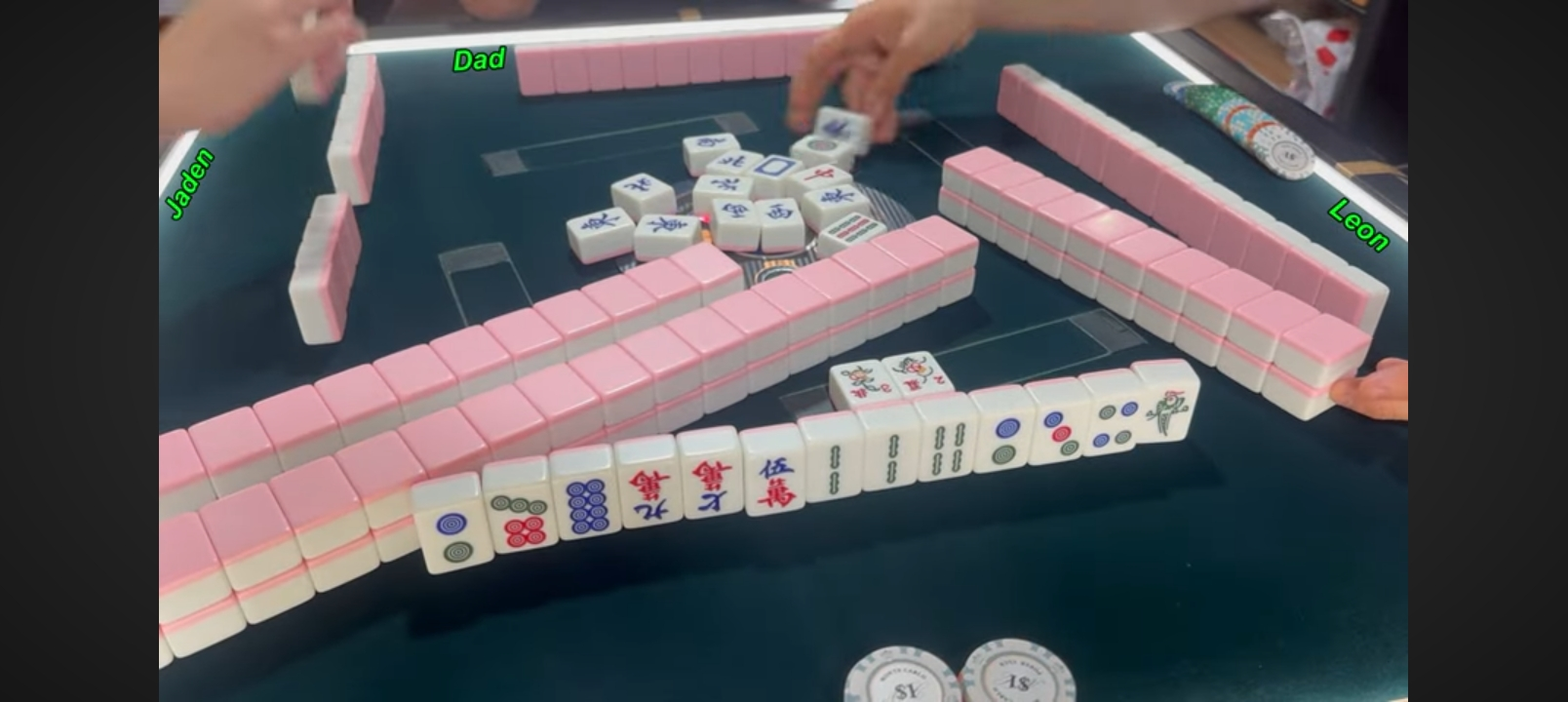TILE: (420, 498, 489, 574), (487, 487, 556, 554), (619, 462, 686, 529), (743, 448, 809, 515), (557, 472, 620, 539), (686, 453, 744, 518), (863, 430, 922, 490), (827, 355, 893, 408), (809, 437, 865, 497), (1141, 386, 1202, 441), (921, 420, 977, 479), (1032, 406, 1089, 463), (1090, 397, 1144, 454), (979, 416, 1034, 471), (890, 351, 956, 396)
